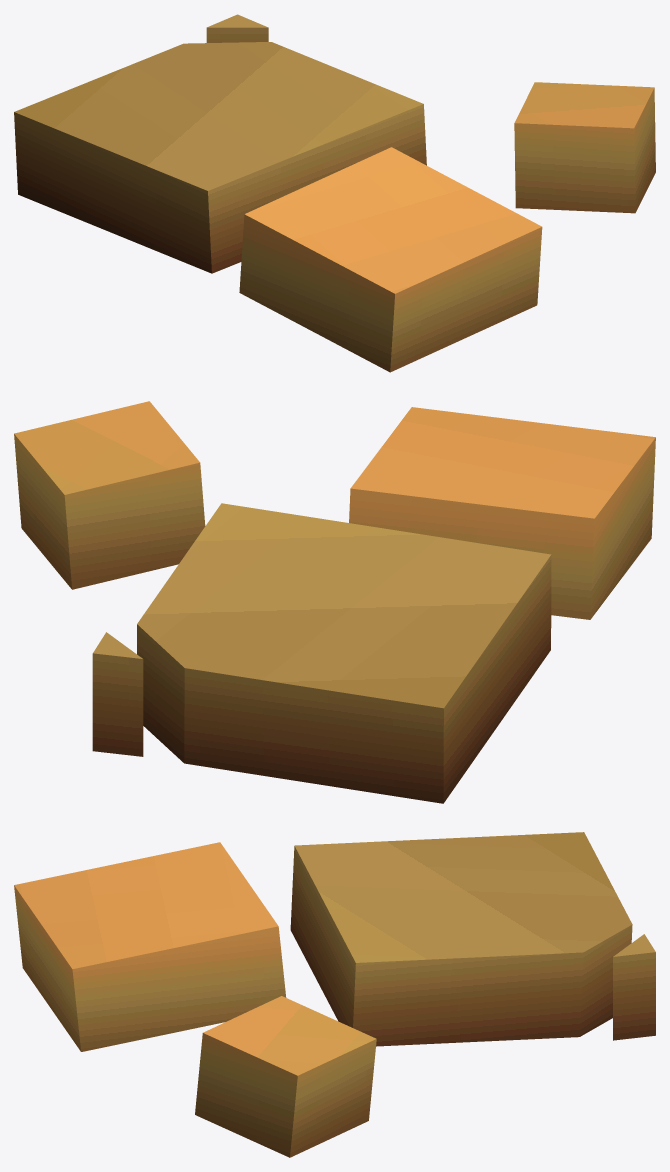
File: Stones_001.FBX
The picture shows the model from 3 angles, top to bottom: view 1: azimuth 30°, elevation 25°; view 2: azimuth 150°, elevation 25°; view 3: azimuth 270°, elevation 25°; orthographic projection. The views are drawn at different scales.
Visible parts, largest first — view 1: Stones_001; view 2: Stones_001; view 3: Stones_001.
Part boxes in pixels (left/top/right/bottom): Stones_001: left=14, top=14, right=655, bottom=372; Stones_001: left=14, top=401, right=655, bottom=803; Stones_001: left=14, top=832, right=655, bottom=1157.
Bounding box in the file's own units: 0.1421 × 0.1548 × 0.0279.
